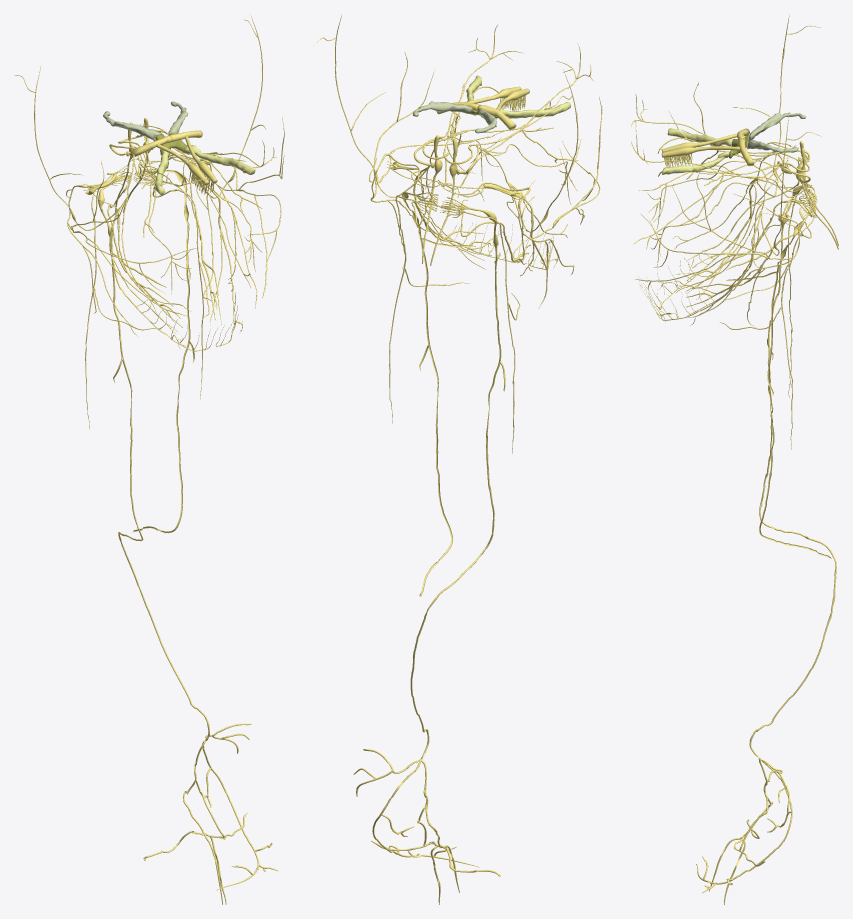
Rendered from cranial-nerves.lod1.glb.
The picture shows the model from 3 angles, left to right: view 1: azimuth 30°, elevation 25°; view 2: azimuth 150°, elevation 25°; view 3: azimuth 270°, elevation 25°; orthographic projection. The views are drawn at different scales.
Parts seen in each view (by area): view 1: vagus-nerve-x-r, facial-nerve-vii-r, vagus-nerve-x-l, facial-nerve-vii-l, olfactory-nerve-i-r, olfactory-nerve-i-l, hypoglossal-nerve-xii-l, glossopharyngeal-nerve-ix-r, optic-nerve-l; view 2: vagus-nerve-x-r, vagus-nerve-x-l, facial-nerve-vii-l, facial-nerve-vii-r, olfactory-nerve-i-r, glossopharyngeal-nerve-ix-l, glossopharyngeal-nerve-ix-r; view 3: vagus-nerve-x-r, facial-nerve-vii-l, vagus-nerve-x-l, facial-nerve-vii-r, olfactory-nerve-i-l, glossopharyngeal-nerve-ix-l, hypoglossal-nerve-xii-r, olfactory-nerve-i-r, hypoglossal-nerve-xii-l, optic-nerve-l, glossopharyngeal-nerve-ix-r, meningeal-branch-of-maxillary-nerve-l (+1 smaller).
Part boxes in pixels (x1,y1,x2,y2): vagus-nerve-x-r: [98, 172, 278, 904]; facial-nerve-vii-r: [66, 159, 198, 336]; vagus-nerve-x-l: [132, 166, 194, 533]; facial-nerve-vii-l: [135, 116, 284, 308]; olfactory-nerve-i-r: [132, 135, 209, 194]; olfactory-nerve-i-l: [169, 130, 217, 192]; hypoglossal-nerve-xii-l: [133, 171, 218, 319]; glossopharyngeal-nerve-ix-r: [85, 172, 162, 428]; optic-nerve-l: [184, 145, 255, 174]; vagus-nerve-x-r: [353, 197, 505, 904]; vagus-nerve-x-l: [401, 191, 475, 596]; facial-nerve-vii-l: [369, 51, 508, 268]; facial-nerve-vii-r: [441, 96, 602, 308]; olfactory-nerve-i-r: [477, 88, 529, 130]; glossopharyngeal-nerve-ix-l: [389, 190, 469, 423]; glossopharyngeal-nerve-ix-r: [441, 192, 520, 453]; vagus-nerve-x-r: [696, 185, 836, 904]; facial-nerve-vii-l: [635, 168, 812, 327]; vagus-nerve-x-l: [726, 198, 831, 558]; facial-nerve-vii-r: [633, 82, 811, 270]; olfactory-nerve-i-l: [661, 138, 754, 167]; glossopharyngeal-nerve-ix-l: [720, 197, 817, 449]; hypoglossal-nerve-xii-r: [686, 196, 817, 291]; olfactory-nerve-i-r: [661, 128, 749, 164]; hypoglossal-nerve-xii-l: [686, 200, 817, 307]; optic-nerve-l: [662, 151, 729, 174]; glossopharyngeal-nerve-ix-r: [721, 186, 817, 397]; meningeal-branch-of-maxillary-nerve-l: [733, 112, 821, 255].
Size of the model in its own units: 0.1531 by 0.5423 by 0.1245.
